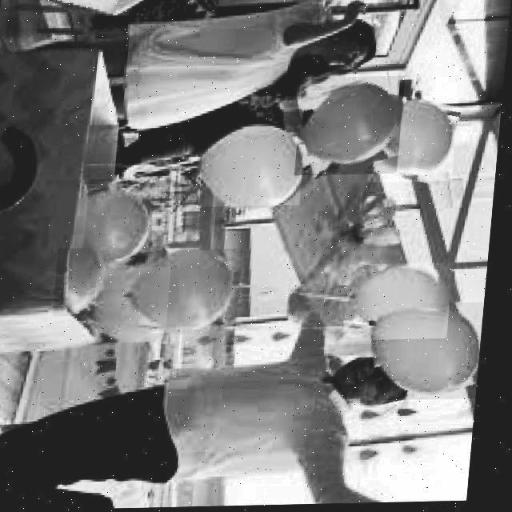balloon: (373, 305, 490, 402), (297, 78, 406, 176), (133, 250, 247, 328), (200, 127, 308, 208), (348, 264, 458, 342), (370, 98, 460, 184), (86, 179, 160, 260), (97, 268, 175, 342), (58, 248, 114, 316)
